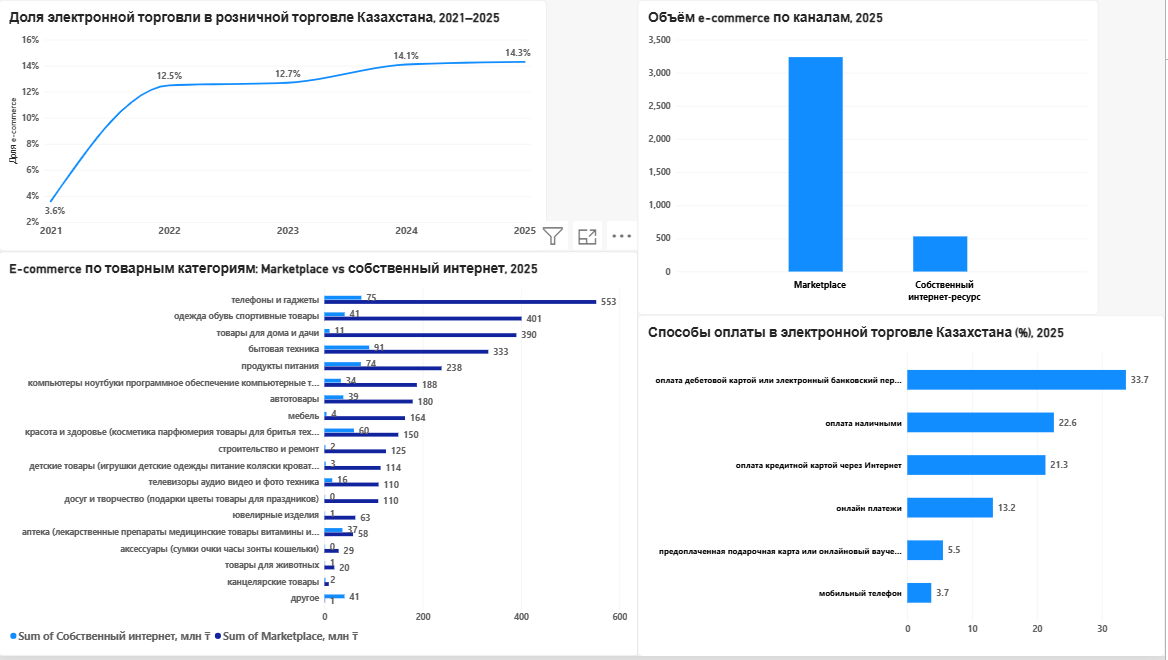

The page's visual inventory and layout, read from the dashboard file:
{"tool":"powerbi","page":{"name":"E-commerce","canvas":[1920,1080],"ordinal":4},"visuals":[{"type":"lineChart","title":"Доля электронной торговли в розничной торговле Казахстана, 2021–2025","fields":{"Category":["доля.Год"],"Y":["доля.Доля e-commerce"]},"box":[0,0,901.5,413.7],"z":0},{"type":"clusteredColumnChart","title":"Объём e-commerce по каналам, 2025","fields":{"Category":["Append1.Канал"],"Y":["Sum(Append1.Объём, млрд ₸)"]},"box":[1052,0,758,518],"z":1000},{"type":"clusteredBarChart","title":"E-commerce по товарным категориям: Marketplace vs собственный интернет, 2025","fields":{"Category":["Merge1.Категория"],"Y":["Sum(Merge1.Собственный интернет, млн ₸)","Sum(Merge1.Marketplace, млн ₸)"]},"box":[0,413.7,1051.8,666.9],"z":2000},{"type":"clusteredBarChart","title":"Способы оплаты в электронной торговле Казахстана (%), 2025","fields":{"Category":["объем опт.Способ оплаты"],"Y":["Sum(объем опт.Доля,%)"]},"box":[1052,518,868,562],"z":3000}]}

Visuals, with their boxes in screenshot pixels (x1, y1, x2, y2), scaled from the page's 1920x1080 canvas onto the 1168x660 screenshot:
"Доля электронной торговли в розничной торговле Казахстана, 2021–2025" lineChart: detection(0, 0, 548, 253)
"Объём e-commerce по каналам, 2025" clusteredColumnChart: detection(640, 0, 1101, 317)
"E-commerce по товарным категориям: Marketplace vs собственный интернет, 2025" clusteredBarChart: detection(0, 253, 640, 659)
"Способы оплаты в электронной торговле Казахстана (%), 2025" clusteredBarChart: detection(640, 317, 1167, 659)
